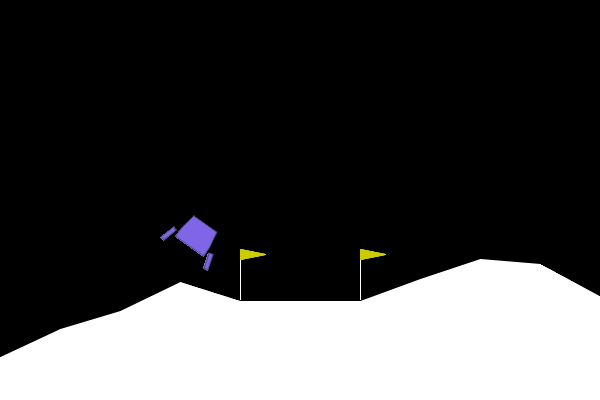lander: (158, 205, 230, 273)
